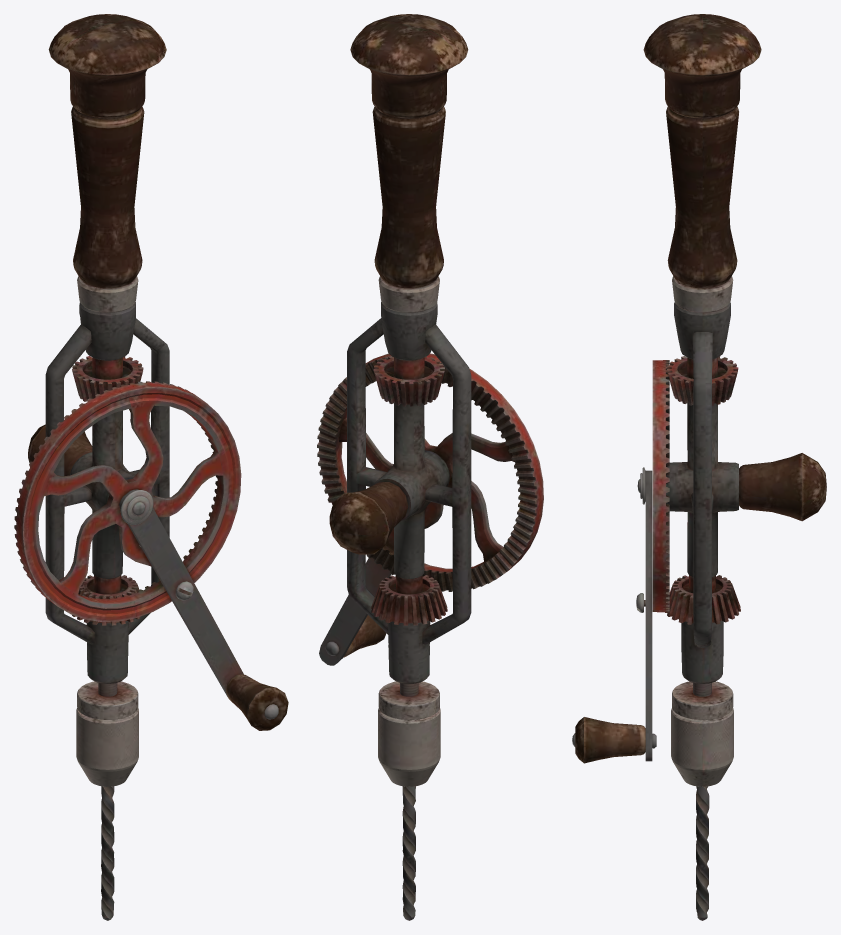
Rendered from vintage_hand_drill.glb.
3 renders of one model, left to right at view 1: azimuth 30°, elevation 25°; view 2: azimuth 150°, elevation 25°; view 3: azimuth 270°, elevation 25°, orthographic.
Parts seen in each view (by area): view 1: Cylinder.087, vintage_hand_drill_crank, vintage_hand_drill_head, vintage_hand_drill_cog1, vintage_hand_drill_cog2; view 2: Cylinder.087, vintage_hand_drill_crank, vintage_hand_drill_head, vintage_hand_drill_cog2, vintage_hand_drill_cog1; view 3: Cylinder.087, vintage_hand_drill_crank, vintage_hand_drill_head, vintage_hand_drill_cog2, vintage_hand_drill_cog1.
Boxes of the visible parts, x1,y1,x2,y2 form: Cylinder.087: (28, 14, 169, 683); vintage_hand_drill_crank: (14, 381, 288, 730); vintage_hand_drill_head: (76, 681, 138, 920); vintage_hand_drill_cog1: (72, 356, 143, 401); vintage_hand_drill_cog2: (72, 575, 142, 625); Cylinder.087: (329, 14, 471, 683); vintage_hand_drill_crank: (317, 353, 543, 665); vintage_hand_drill_head: (378, 681, 440, 920); vintage_hand_drill_cog2: (371, 575, 447, 625); vintage_hand_drill_cog1: (373, 356, 444, 406); Cylinder.087: (643, 14, 826, 683); vintage_hand_drill_crank: (572, 360, 669, 763); vintage_hand_drill_head: (671, 681, 733, 920); vintage_hand_drill_cog2: (665, 575, 740, 624); vintage_hand_drill_cog1: (667, 356, 738, 405).
Size of the model in its own units: 0.1312 by 0.4857 by 0.1251.
1 material, 1 textured.
